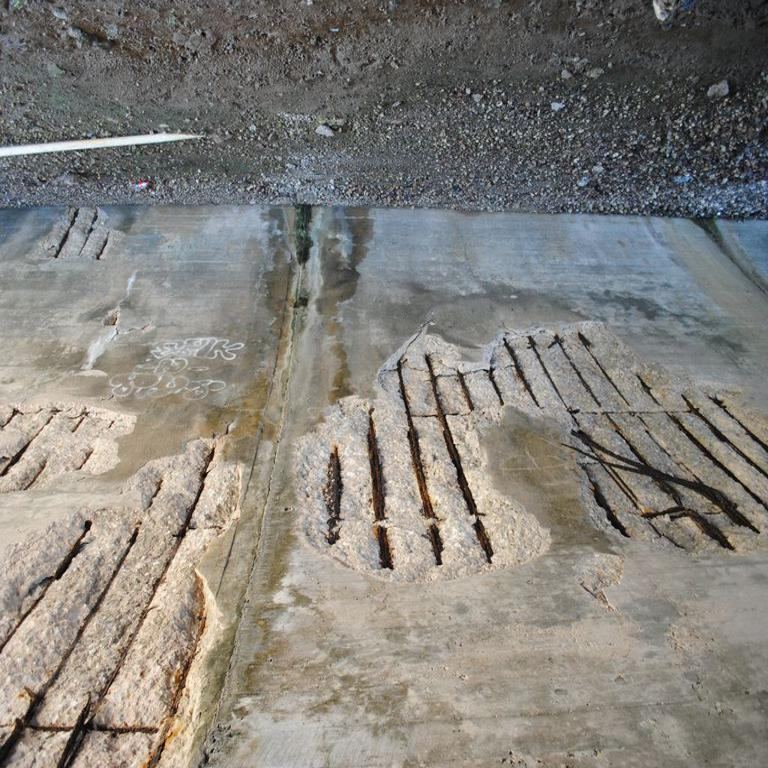crack: (102, 309, 153, 342), (217, 419, 235, 441)
damage: (297, 323, 768, 571), (0, 438, 239, 768), (0, 402, 135, 493), (29, 207, 124, 260)
